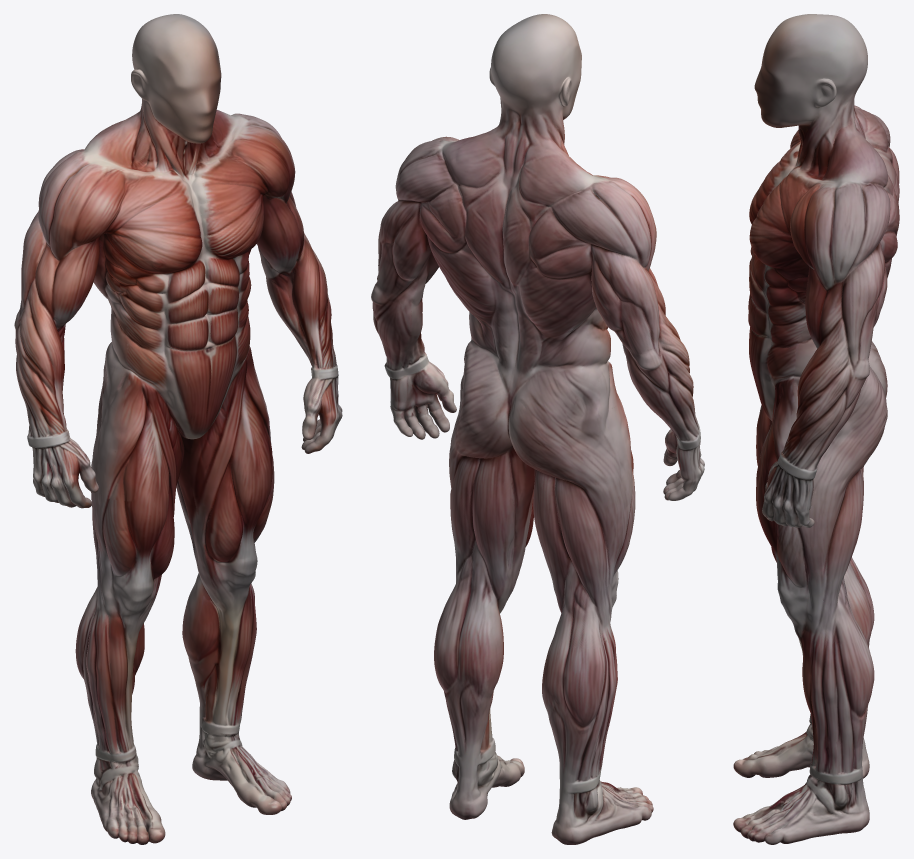
3 views of the same model, side by side, from view 1: azimuth 30°, elevation 25°; view 2: azimuth 150°, elevation 25°; view 3: azimuth 270°, elevation 25° (orthographic).
Parts seen in each view (by area): view 1: tripo_node_ba03471b-deb3-430b-bf6c-04130859eebe; view 2: tripo_node_ba03471b-deb3-430b-bf6c-04130859eebe; view 3: tripo_node_ba03471b-deb3-430b-bf6c-04130859eebe.
Boxes of the visible parts, bbox=[...] form: tripo_node_ba03471b-deb3-430b-bf6c-04130859eebe: bbox=[14, 14, 342, 844]; tripo_node_ba03471b-deb3-430b-bf6c-04130859eebe: bbox=[371, 14, 704, 844]; tripo_node_ba03471b-deb3-430b-bf6c-04130859eebe: bbox=[733, 14, 899, 844].
Bounding box in the file's own units: 0.4103 × 1 × 0.1913.
1 material, 1 textured.
